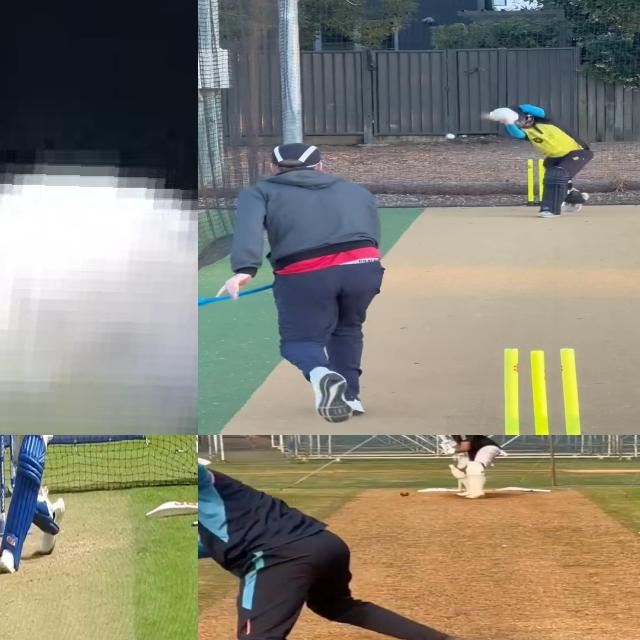Cricket ball: (0, 151, 198, 435), (444, 133, 458, 140), (400, 491, 410, 497)
Stumps: (487, 348, 602, 435)
